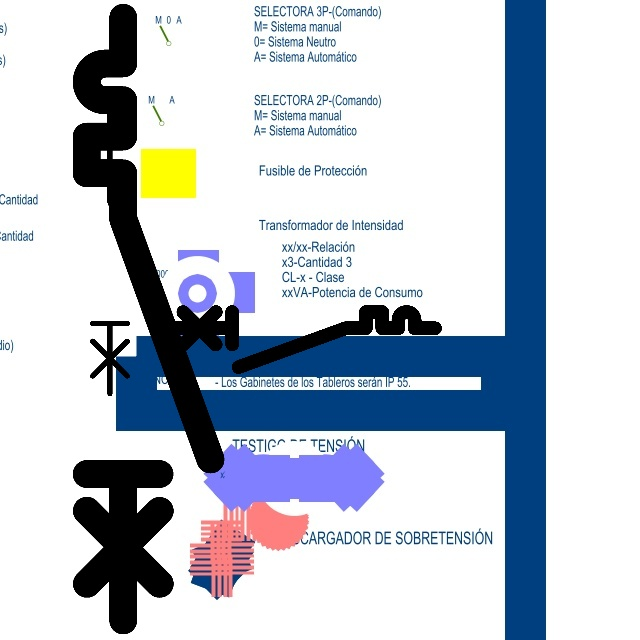interruptor_termomagnetico: (71, 2, 226, 635), (85, 98, 159, 401), (160, 305, 442, 374)
